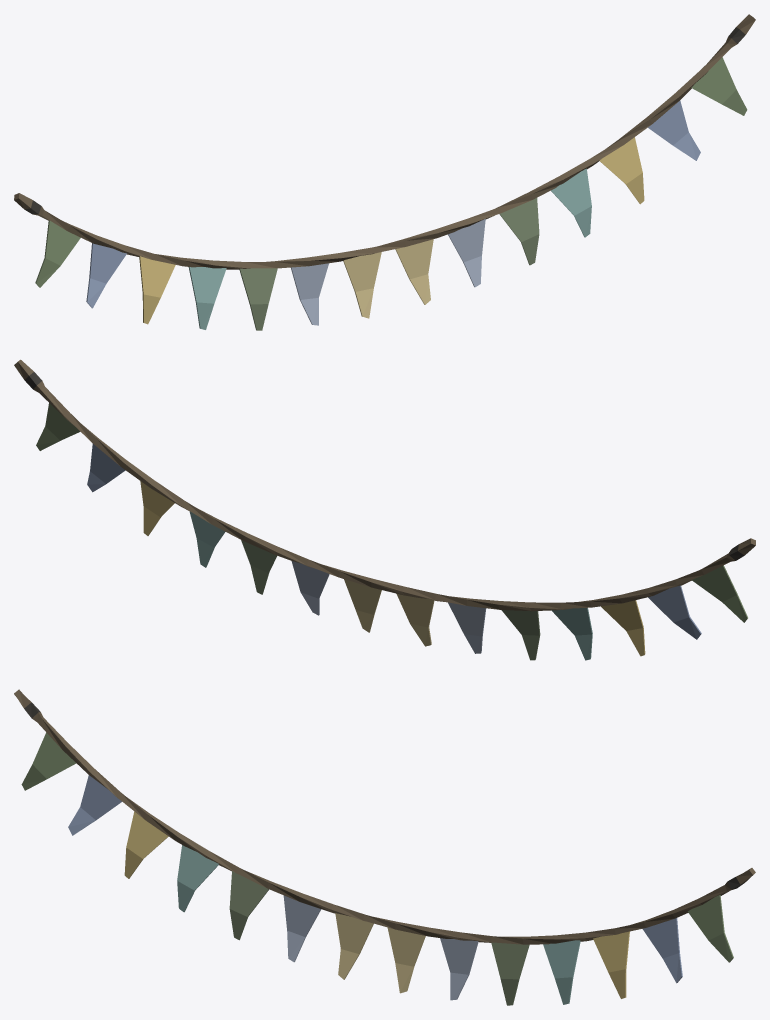
The model's file is bunting-run-2ac207.glb.
3 views of the same model, one above another, from view 1: azimuth 30°, elevation 25°; view 2: azimuth 150°, elevation 25°; view 3: azimuth 330°, elevation 25° (orthographic).
Parts seen in each view (by area): view 1: bunting-run-2ac207; view 2: bunting-run-2ac207; view 3: bunting-run-2ac207.
Part boxes in pixels (box(x1,y1,x2,y2)): bunting-run-2ac207: box(14, 14, 755, 330); bunting-run-2ac207: box(14, 359, 755, 660); bunting-run-2ac207: box(14, 689, 755, 1005).
Bounding box in the file's own units: 3.98 × 1.02 × 0.1456.
